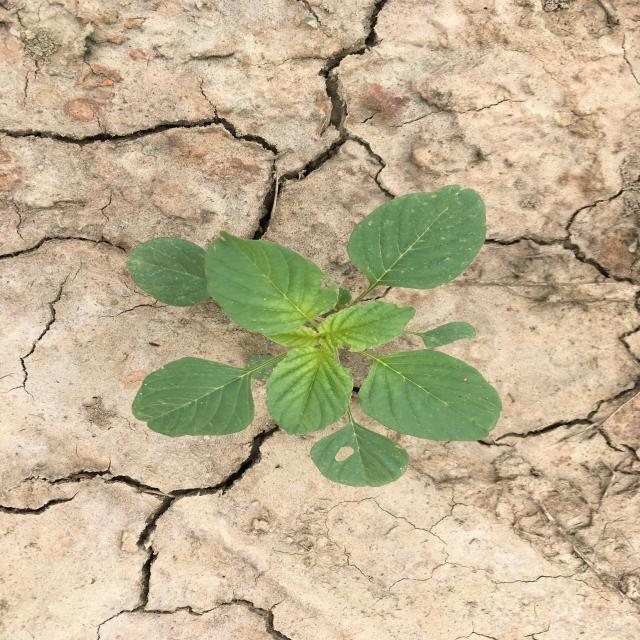PalmerAmaranth: (126, 184, 503, 488)
